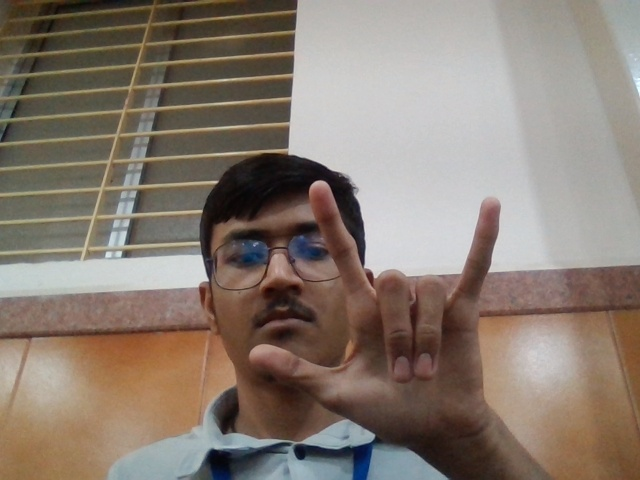I_Love_You: (246, 176, 513, 448)
